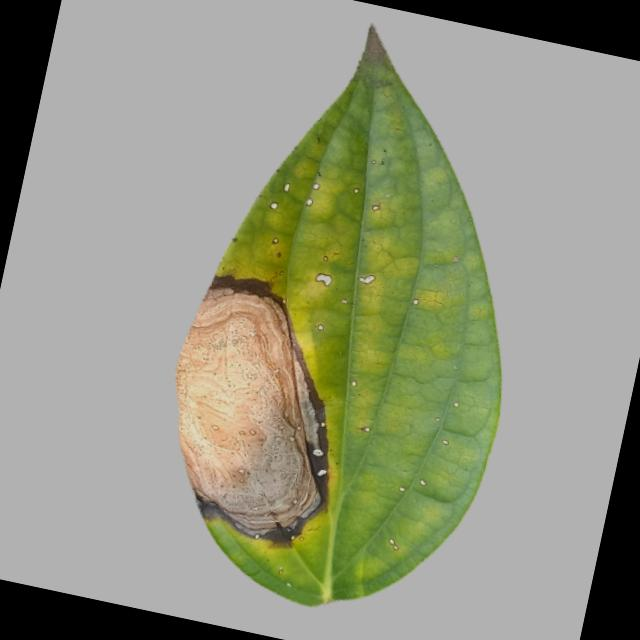leaf-blight: (119, 0, 604, 630)
